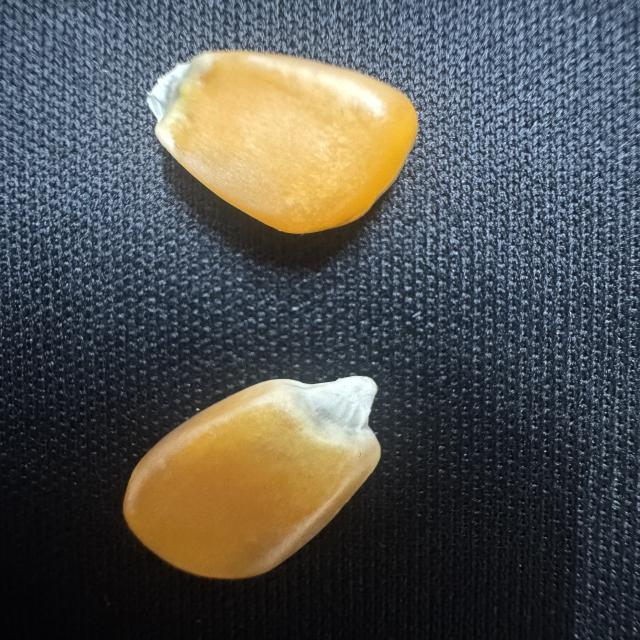Good-Seed: (107, 368, 390, 589), (144, 35, 433, 247)
